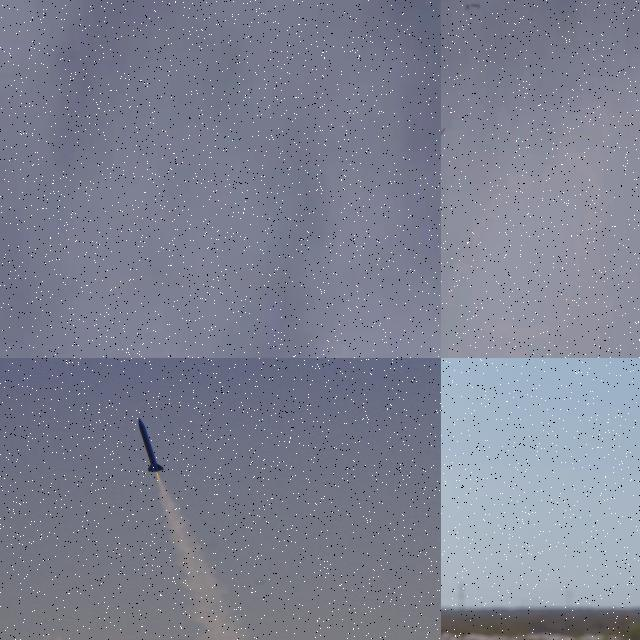Rocket: (138, 418, 165, 472), (441, 127, 445, 139)
